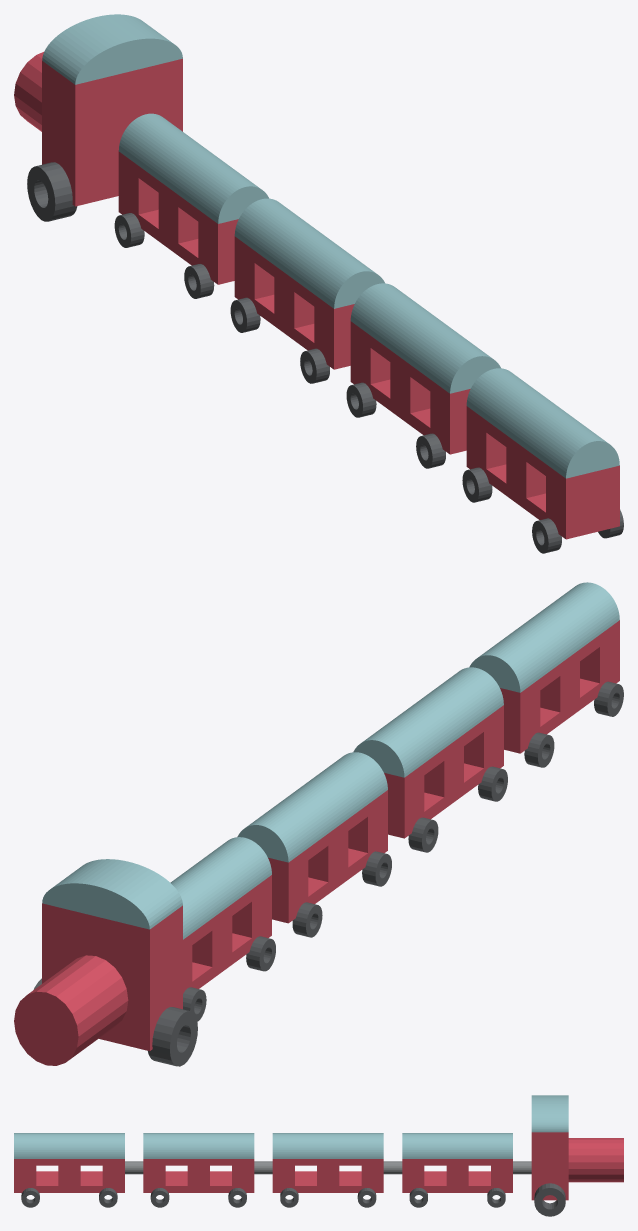
The model's file is Project150-TrainInTheDesert.glb.
The picture shows the model from 3 angles, top to bottom: view 1: azimuth 30°, elevation 25°; view 2: azimuth 150°, elevation 25°; view 3: azimuth 270°, elevation 25°; orthographic projection. The views are drawn at different scales.
Visible parts, largest first — view 1: Mesh_Mesh_head_geo.001_lambert2SG.001; view 2: Mesh_Mesh_head_geo.001_lambert2SG.001; view 3: Mesh_Mesh_head_geo.001_lambert2SG.001.
Part boxes in pixels (left/top/right/bottom): Mesh_Mesh_head_geo.001_lambert2SG.001: left=14, top=14, right=623, bottom=553; Mesh_Mesh_head_geo.001_lambert2SG.001: left=14, top=582, right=623, bottom=1066; Mesh_Mesh_head_geo.001_lambert2SG.001: left=14, top=1095, right=623, bottom=1216.
Size of the model in its own units: 30 by 35 by 200.
